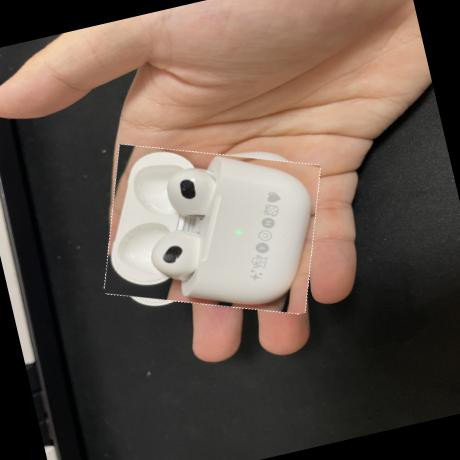airpod3: (84, 118, 340, 340)
